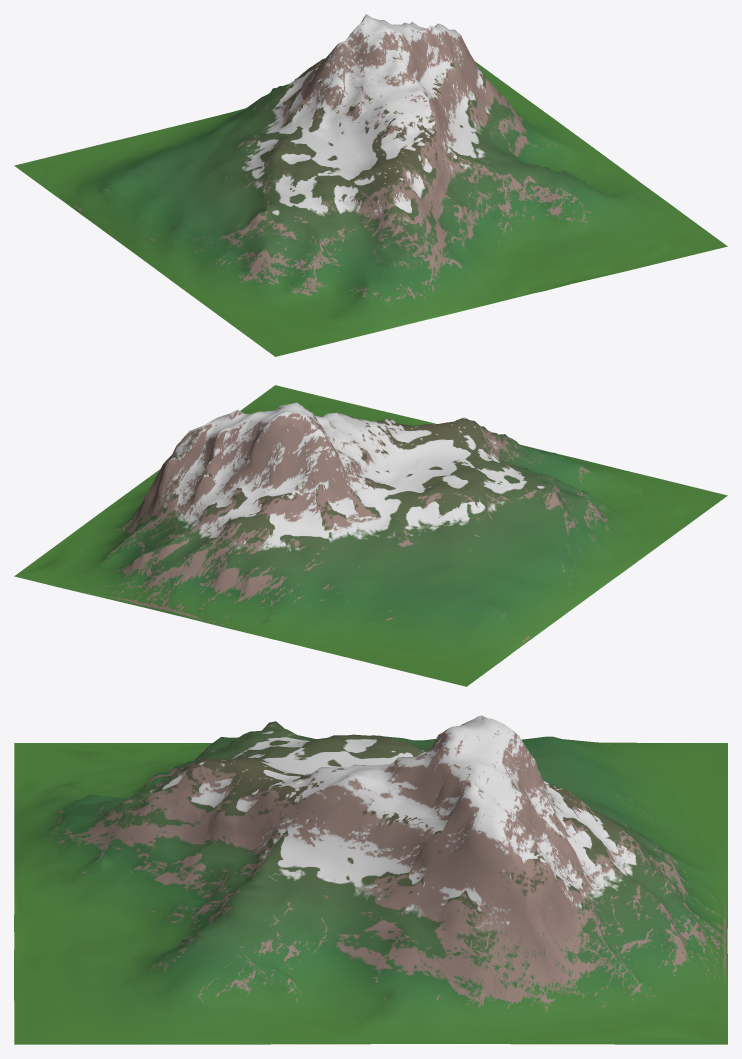
3 renders of one model, top to bottom at view 1: azimuth 30°, elevation 25°; view 2: azimuth 150°, elevation 25°; view 3: azimuth 270°, elevation 25°, orthographic. The views are drawn at different scales.
Visible parts, largest first — view 1: submesh_0; view 2: submesh_0; view 3: submesh_0.
Part boxes in pixels (bbox=[...]): submesh_0: bbox=[14, 14, 727, 356]; submesh_0: bbox=[14, 385, 727, 686]; submesh_0: bbox=[14, 715, 727, 1044].
Bounding box in the file's own units: 1052 × 327 × 1052.
Materials: 1 (1 with a texture image).
